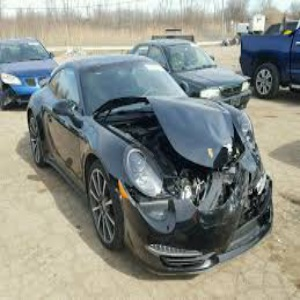bonnet: (132, 93, 241, 167)
bumper: (117, 182, 256, 274)
